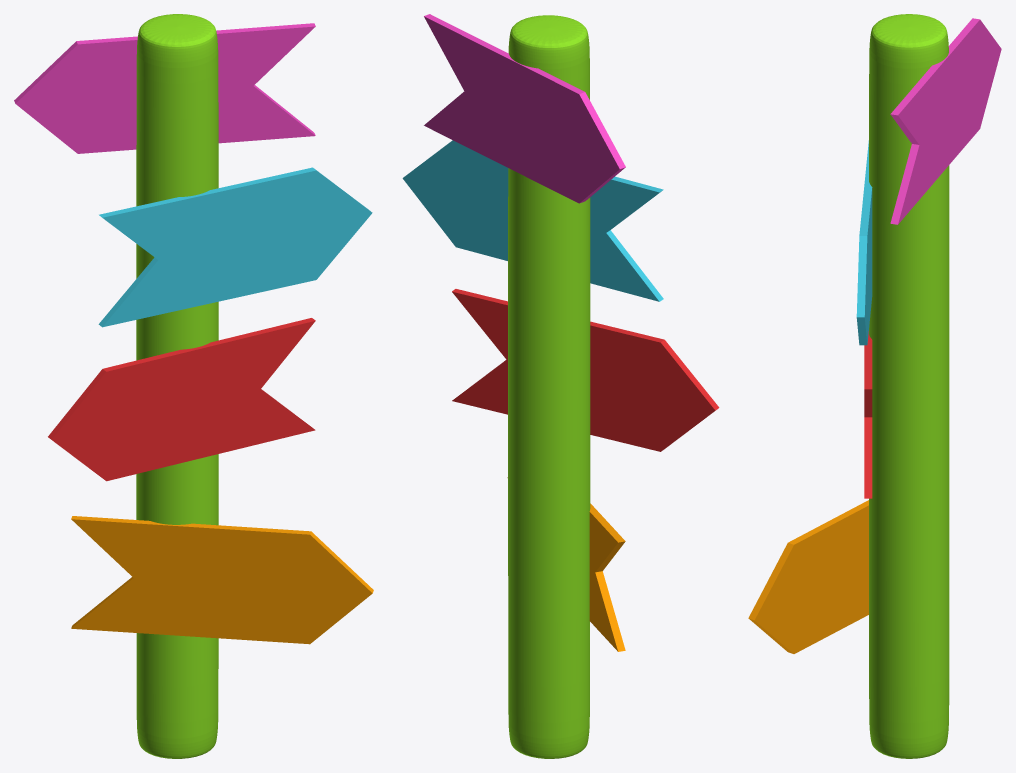
File: Placas.fbx
3 renders of one model, left to right at view 1: azimuth 30°, elevation 25°; view 2: azimuth 150°, elevation 25°; view 3: azimuth 270°, elevation 25°, orthographic.
Visible parts, largest first — view 1: Cube.002; view 2: Cube.002; view 3: Cube.002.
Boxes of the visible parts, box(x1,y1,x2,y2) form: Cube.002: box(14, 14, 373, 758); Cube.002: box(402, 14, 719, 758); Cube.002: box(748, 14, 1001, 758).
Bounding box in the file's own units: 638 × 1380 × 441.
